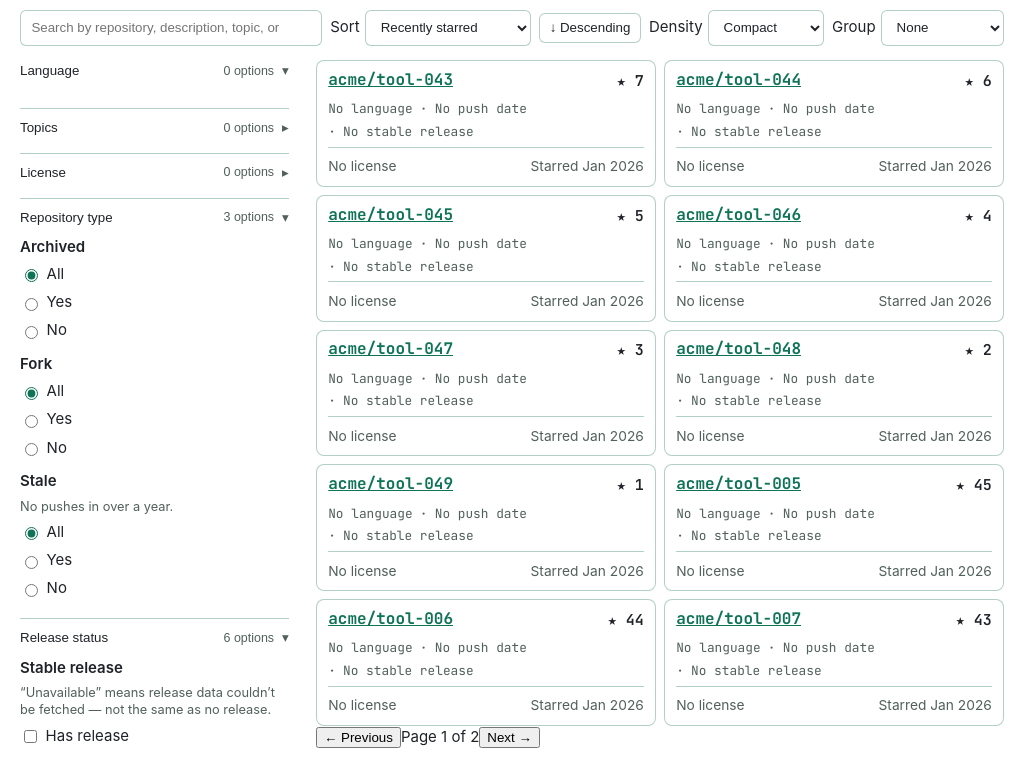
Test case: RepositoryView — pagination (§6.2) › PAGE-1: slices at 48/page with a working Prev/Next pager
(page scrolled)
Expected: the text "Page 1 of 2" is shown, left=401, top=727, right=479, bottom=746
Click the button "Next →" at (510, 737), box left=479, top=727, right=540, bottom=748
(page scrolled)
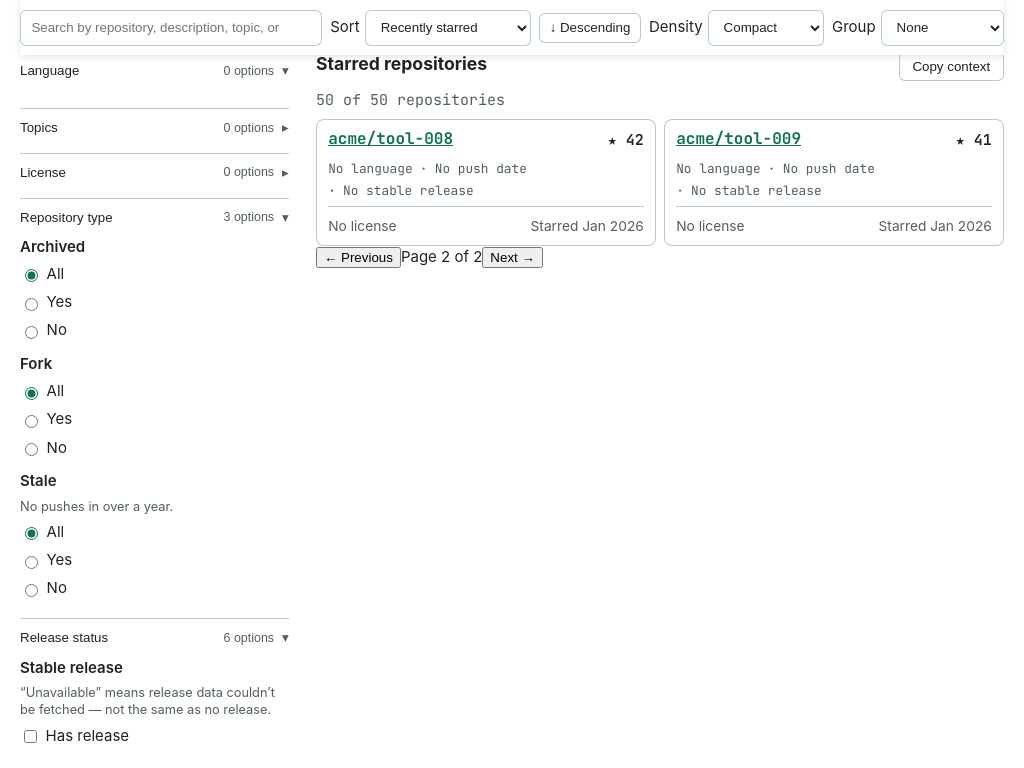
Expected: the number of links is 2, left=328, top=128, right=453, bottom=149; left=676, top=128, right=801, bottom=149
Expected: the text "Page 2 of 2" is shown, left=401, top=247, right=482, bottom=266
